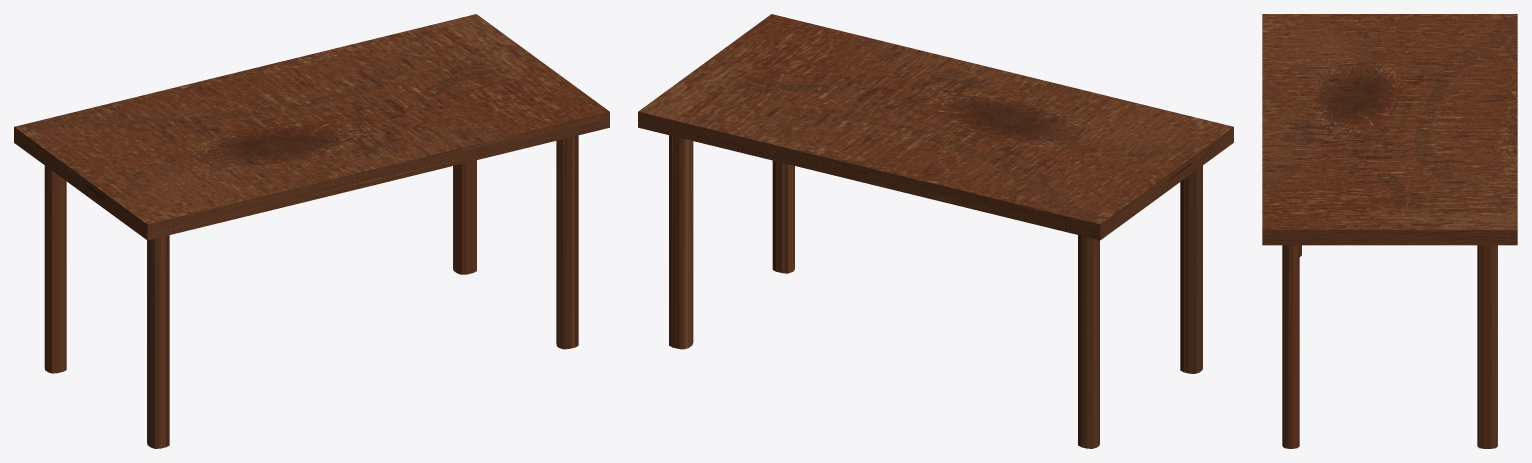
Rendered from BigTable.fbx.
3 renders of one model, left to right at view 1: azimuth 30°, elevation 25°; view 2: azimuth 150°, elevation 25°; view 3: azimuth 270°, elevation 25°, orthographic. The views are drawn at different scales.
Parts seen in each view (by area): view 1: Cube; view 2: Cube; view 3: Cube.
Boxes of the visible parts, left/top/right/bottom form: Cube: left=14, top=14, right=609, bottom=448; Cube: left=638, top=14, right=1233, bottom=448; Cube: left=1262, top=14, right=1517, bottom=448.
Bounding box in the file's own units: 1000 × 491 × 500.
